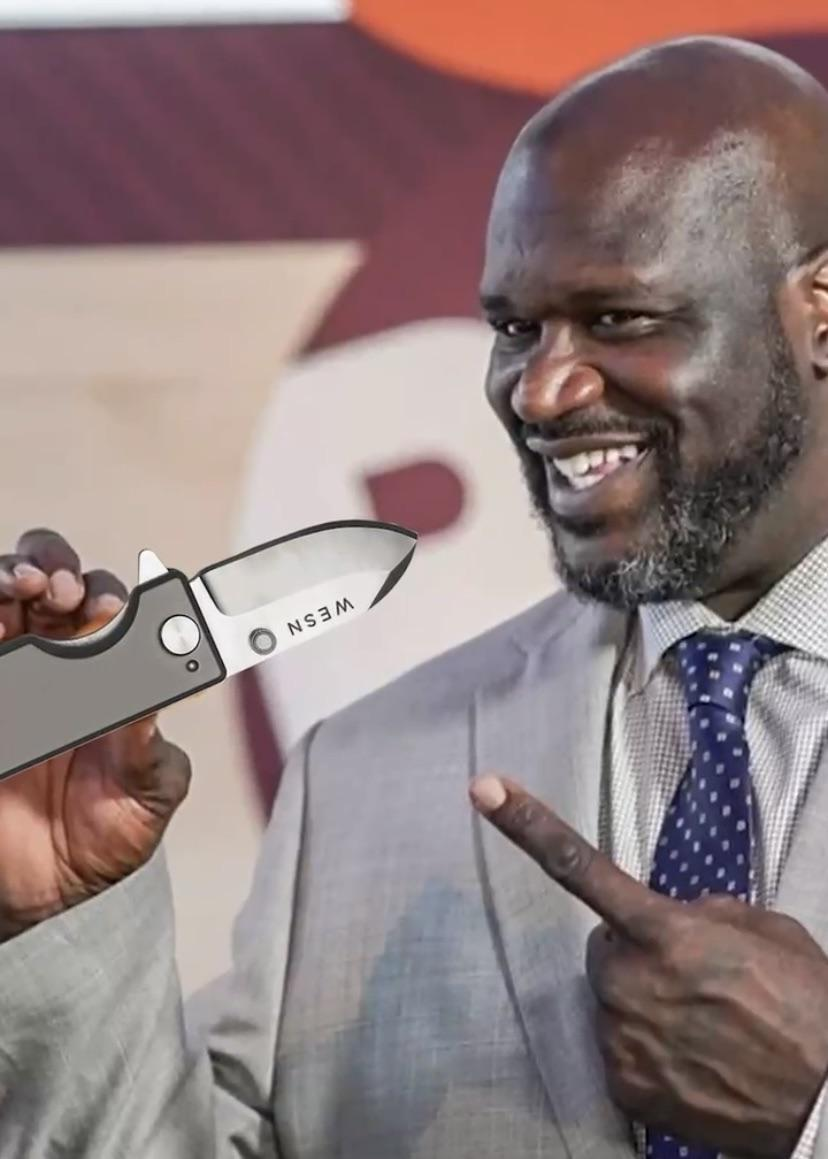Knife: (0, 37, 828, 1159), (0, 530, 191, 943), (141, 521, 419, 701)
